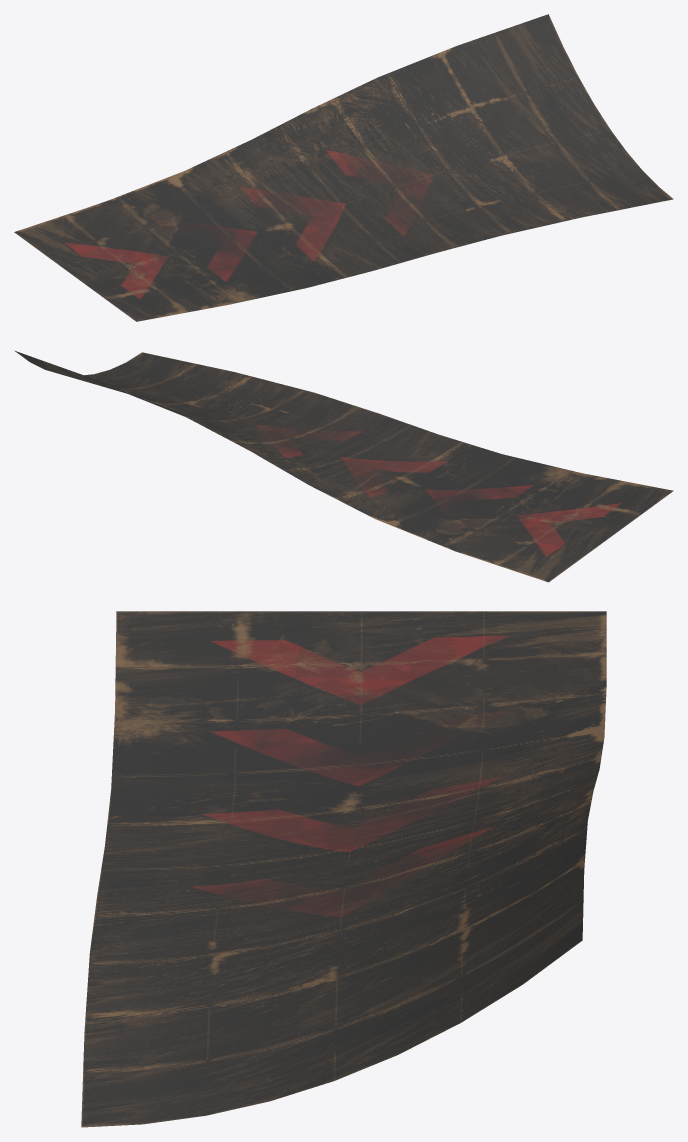
Rendered from Route_Transition_Droit.fbx.
The picture shows the model from 3 angles, top to bottom: view 1: azimuth 30°, elevation 25°; view 2: azimuth 150°, elevation 25°; view 3: azimuth 270°, elevation 25°; orthographic projection. The views are drawn at different scales.
Parts seen in each view (by area): view 1: polySurface80; view 2: polySurface80; view 3: polySurface80.
Part boxes in pixels (x1=…): polySurface80: x1=14, y1=14, x2=673, y2=321; polySurface80: x1=14, y1=350, x2=673, y2=582; polySurface80: x1=81, y1=611, x2=606, y2=1127.
Size of the model in its own units: 31.19 by 5.63 by 13.42.
